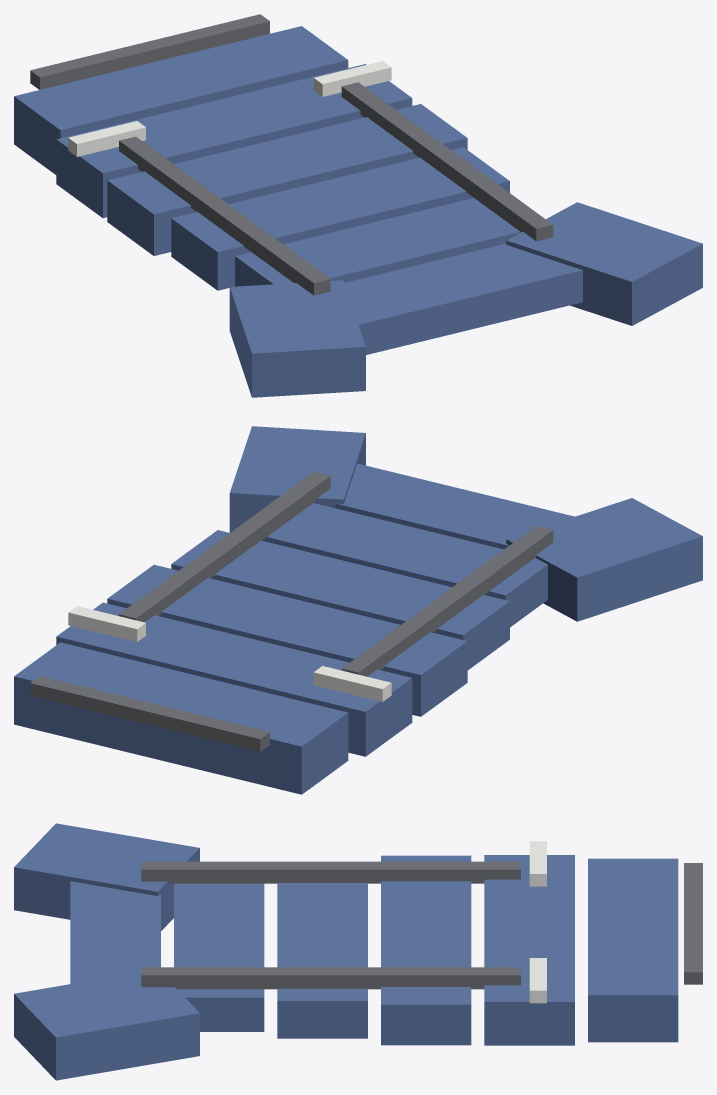
File: baseball-park-and-batting-cages-chest-protector-c241a118__33772.glb
The picture shows the model from 3 angles, top to bottom: view 1: azimuth 30°, elevation 25°; view 2: azimuth 150°, elevation 25°; view 3: azimuth 270°, elevation 25°; orthographic projection. The views are drawn at different scales.
Visible parts, largest first — view 1: chest-protector; view 2: chest-protector; view 3: chest-protector.
Boxes of the visible parts, box(x1,y1,x2,y2) form: chest-protector: box(14, 14, 702, 397); chest-protector: box(14, 426, 702, 794); chest-protector: box(14, 823, 702, 1080).
Bounding box in the file's own units: 0.588 × 0.074 × 0.7988.
